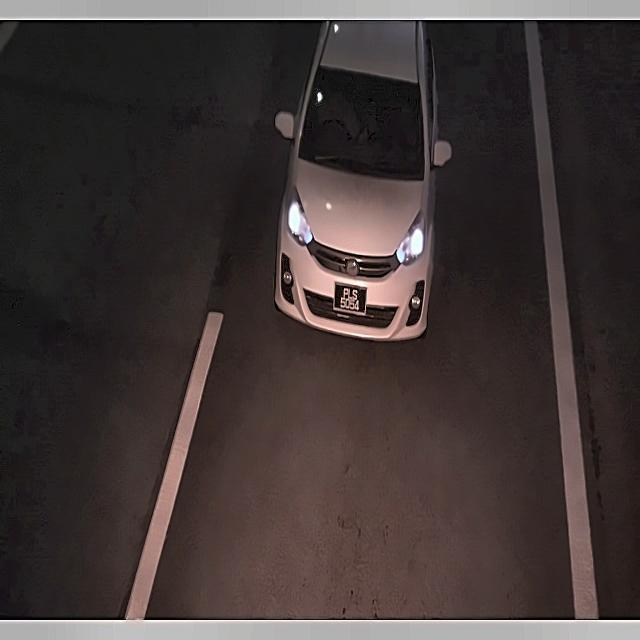car: (332, 276, 371, 321)
